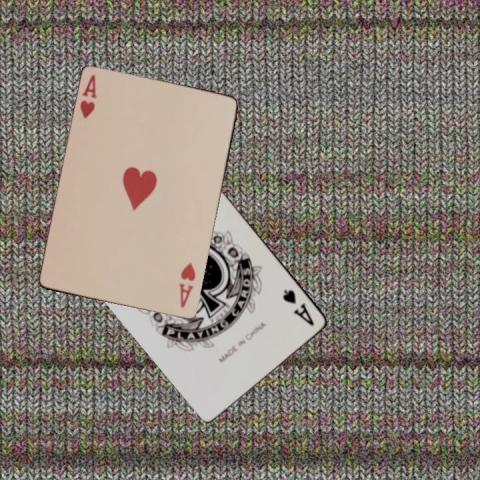Ah: (176, 260, 197, 309), (77, 71, 98, 120)
As: (280, 287, 316, 327)
